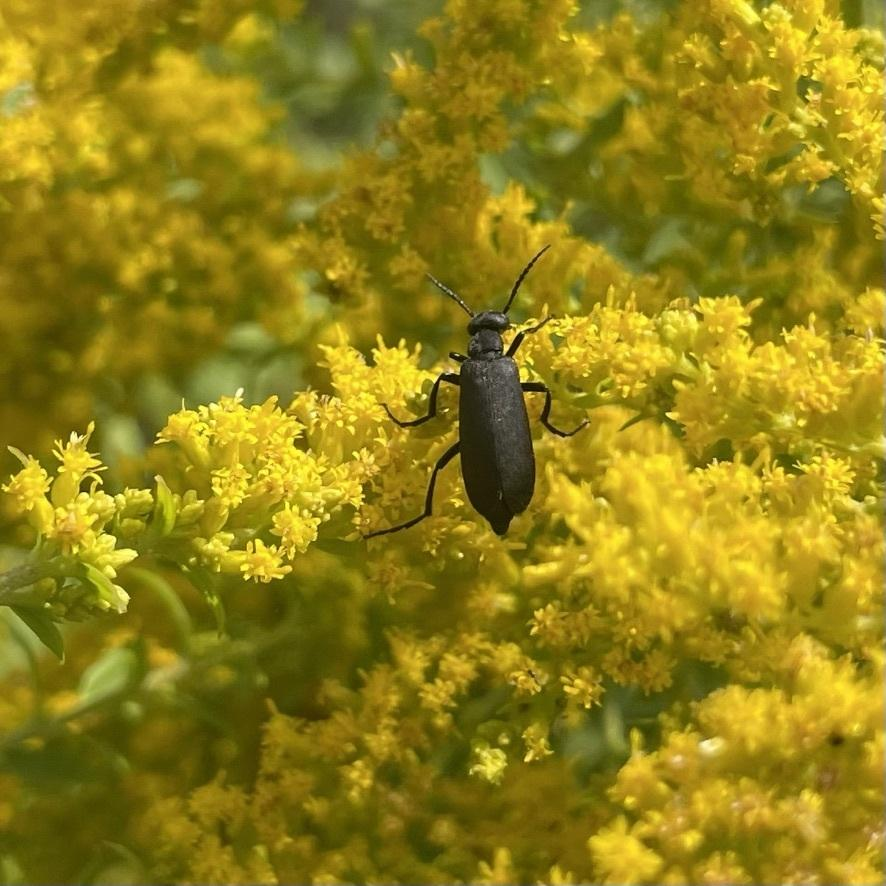blister_beetle: (349, 237, 637, 564)
